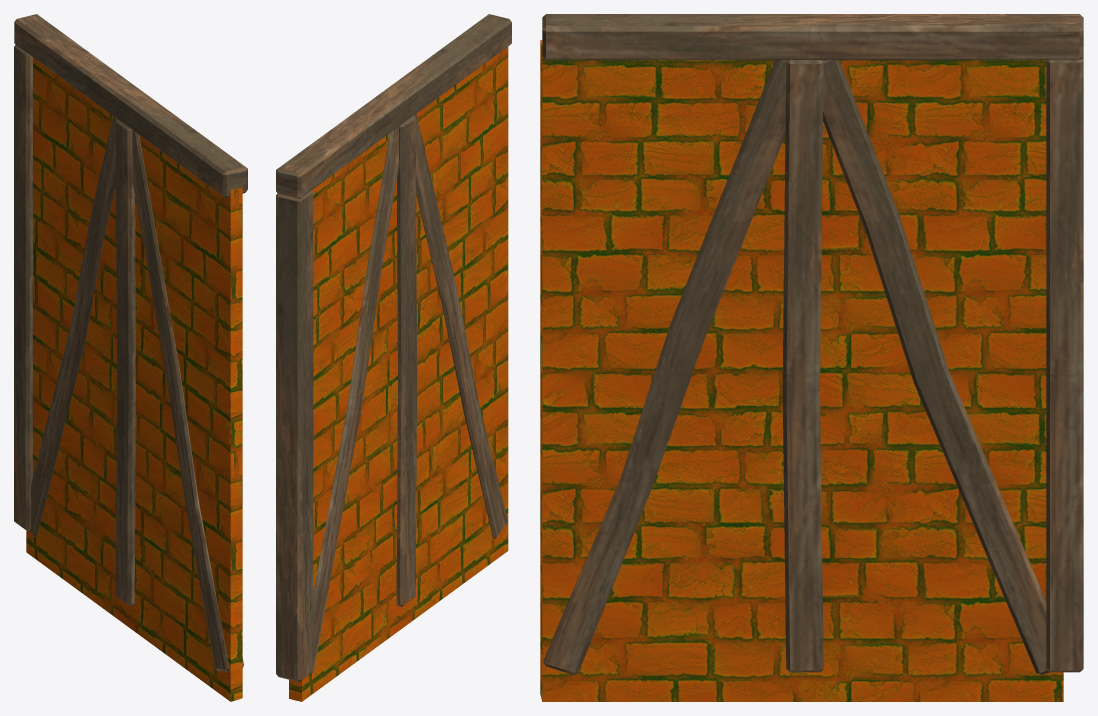
File: SM_wall_01.fbx
3 renders of one model, left to right at view 1: azimuth 30°, elevation 25°; view 2: azimuth 150°, elevation 25°; view 3: azimuth 270°, elevation 25°, orthographic. The views are drawn at different scales.
Parts seen in each view (by area): view 1: SM_wall_01_LOD0; view 2: SM_wall_01_LOD0; view 3: SM_wall_01_LOD0.
Part boxes in pixels (x1,y1,x2,y2): SM_wall_01_LOD0: [14, 14, 247, 701]; SM_wall_01_LOD0: [276, 14, 511, 701]; SM_wall_01_LOD0: [540, 14, 1083, 701].
Size of the model in its own units: 20 by 291 by 400.
Materials: 2 (2 with a texture image).
